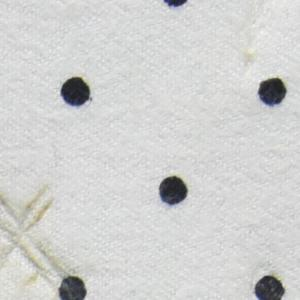Oil Stain: (1, 177, 78, 300)
